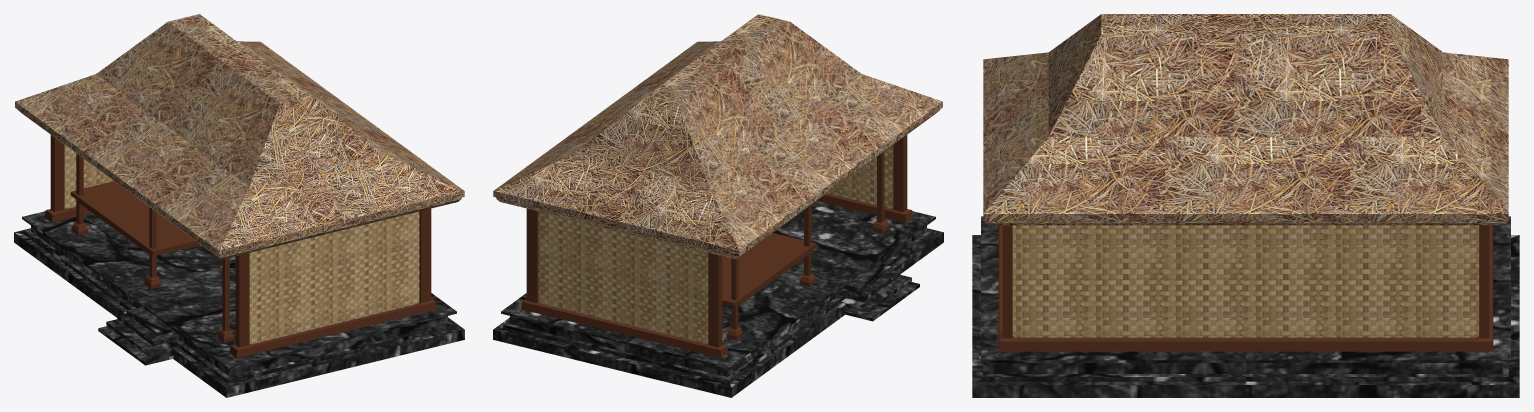
The model's file is Bangunan Bale Dangin.fbx.
The picture shows the model from 3 angles, left to right: view 1: azimuth 30°, elevation 25°; view 2: azimuth 150°, elevation 25°; view 3: azimuth 270°, elevation 25°; orthographic projection. The views are drawn at different scales.
Visible parts, largest first — view 1: Atap Bale Dangin, Pondasi Bale Dangin, Dinding Bale Danging, Tiang Sekenem Bale Dangin, Tangga Bale Dangin; view 2: Atap Bale Dangin, Pondasi Bale Dangin, Dinding Bale Danging, Tiang Sekenem Bale Dangin, Tangga Bale Dangin; view 3: Atap Bale Dangin, Dinding Bale Danging, Pondasi Bale Dangin.
Boxes of the visible parts, x1,y1,x2,y2 form: Atap Bale Dangin: [15, 14, 464, 259]; Pondasi Bale Dangin: [14, 211, 464, 397]; Dinding Bale Danging: [45, 135, 436, 357]; Tiang Sekenem Bale Dangin: [70, 153, 233, 342]; Tangga Bale Dangin: [98, 307, 178, 365]; Atap Bale Dangin: [493, 14, 942, 259]; Pondasi Bale Dangin: [493, 201, 943, 397]; Dinding Bale Danging: [521, 135, 912, 357]; Tiang Sekenem Bale Dangin: [722, 152, 888, 340]; Tangga Bale Dangin: [839, 262, 919, 321]; Atap Bale Dangin: [983, 14, 1508, 225]; Dinding Bale Danging: [998, 225, 1493, 351]; Pondasi Bale Dangin: [972, 216, 1519, 397].
Size of the model in its own units: 12.11 by 9.92 by 16.45.
